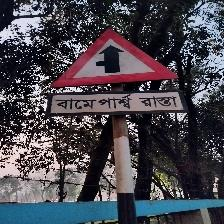Side-road-left: (47, 26, 188, 121)
